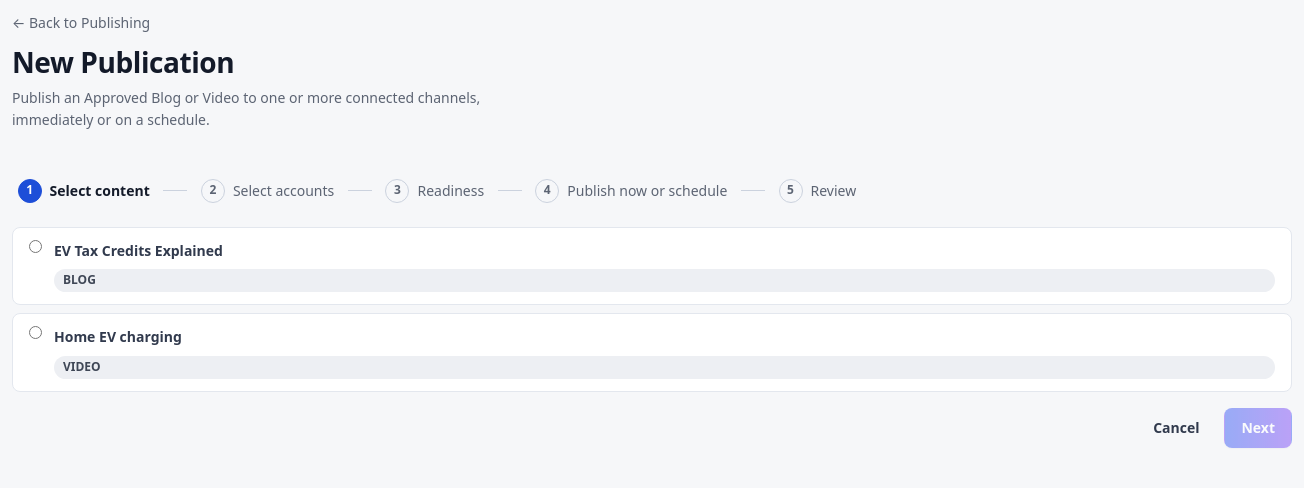
it: PublishFlow › auto-drops a blocked account after the readiness check and blocks proceeding with zero remaining
This screenshot has width=1304, height=488.
Expected: the text "Home EV charging" is shown, left=54, top=327, right=182, bottom=346
Click the radio button labelled "Home EV charging VIDEO" at (36, 333), box left=29, top=326, right=42, bottom=339
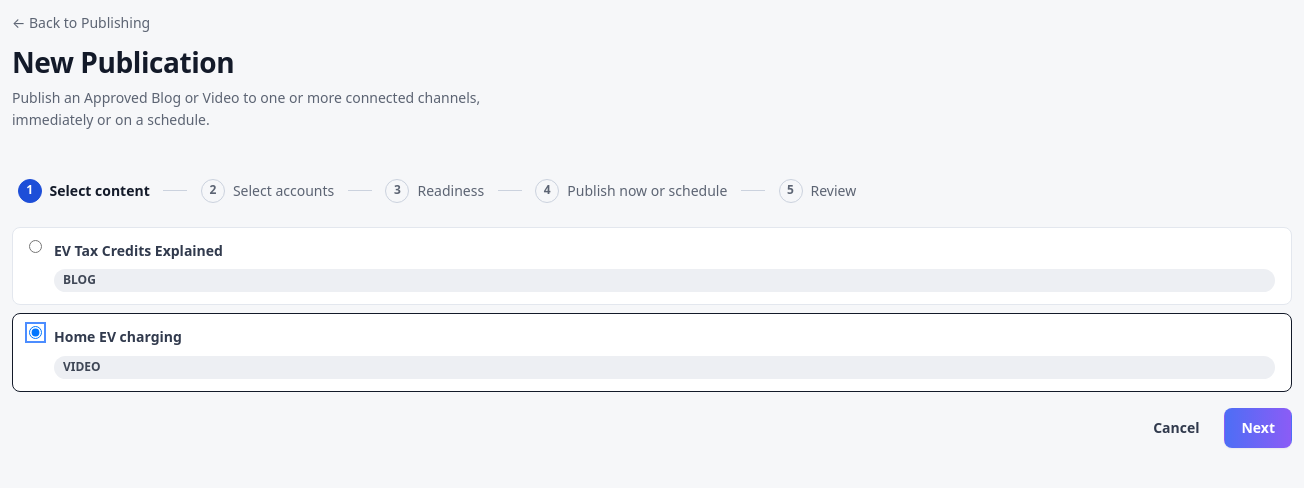
Click the button "Next" at (1258, 428), box left=1224, top=408, right=1292, bottom=448
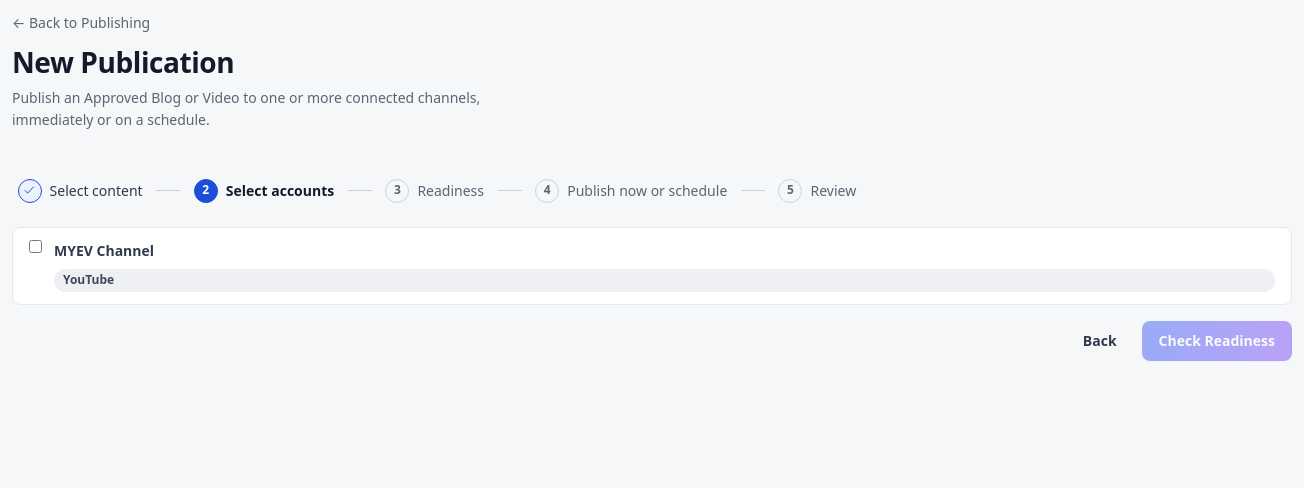
Expected: the text "MYEV Channel" is shown, left=54, top=241, right=154, bottom=260
Click the checkbox at (36, 246), box left=29, top=240, right=42, bottom=253
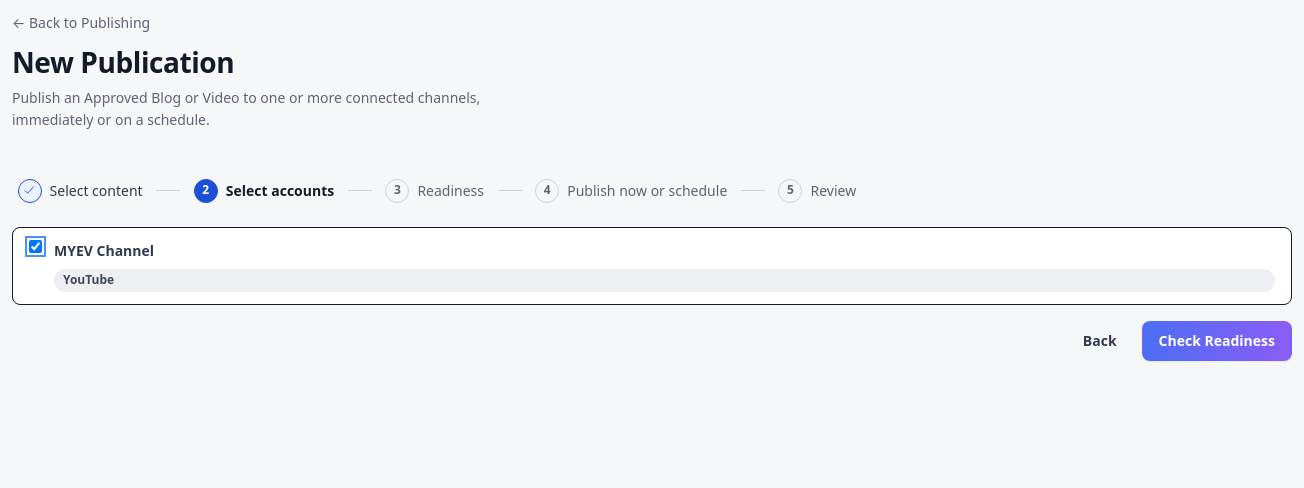
Click the button "Check Readiness" at (1217, 341), box left=1142, top=321, right=1292, bottom=361
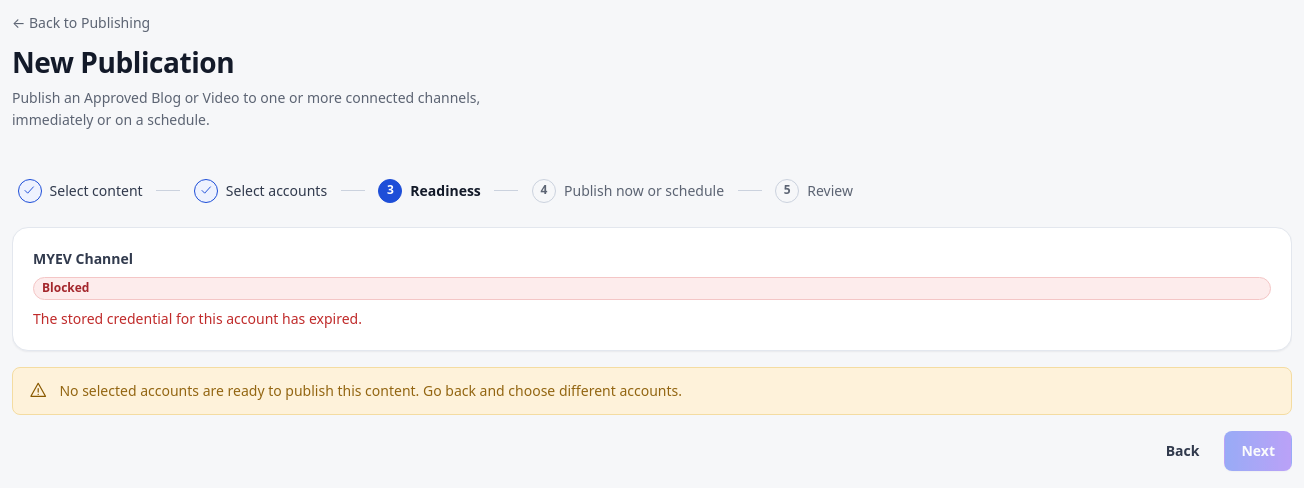
Expected: the text "Blocked" is shown, left=33, top=277, right=1271, bottom=300
Expected: the text "The stored credential for this account has expired." is shown, left=33, top=309, right=362, bottom=328
Expected: the text "No selected accounts are ready to publish" is shown, left=59, top=381, right=682, bottom=400
